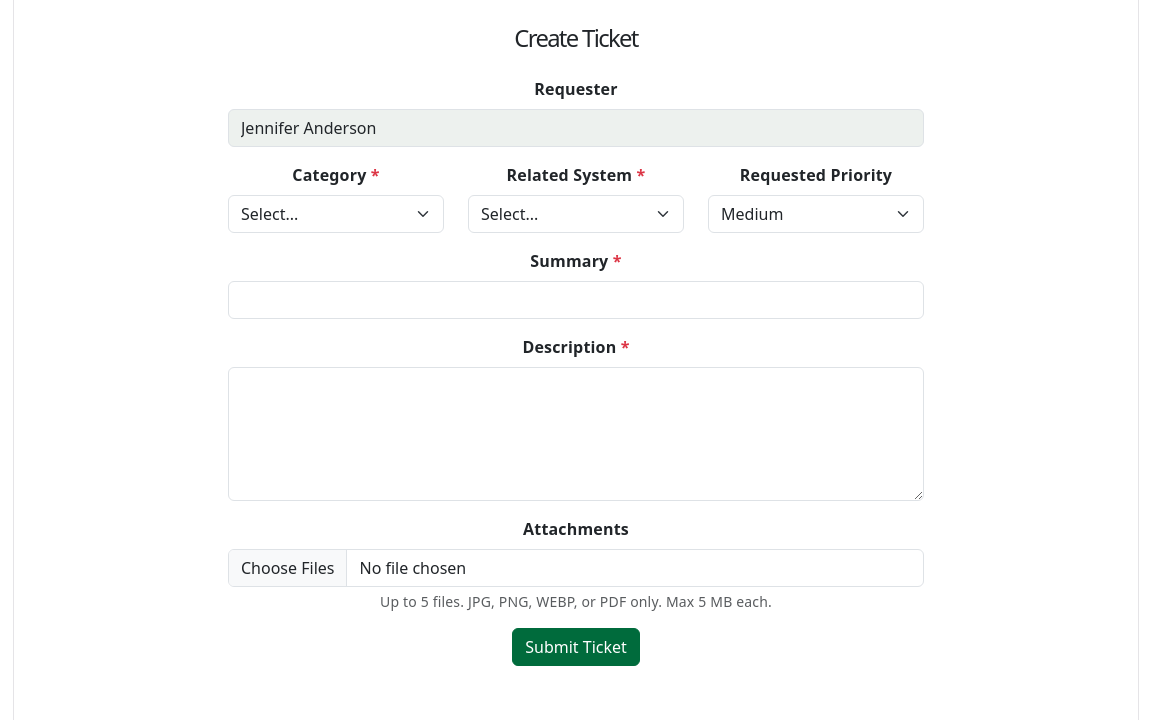
Test: CreateTicket › submits successfully and shows the returned ticket number
expect the heading "Create Ticket" is shown: met, box [514,22,638,54]
Select "Hardware" in the dropdown labelled "Category *" at (336, 214), box [228,195,444,233]
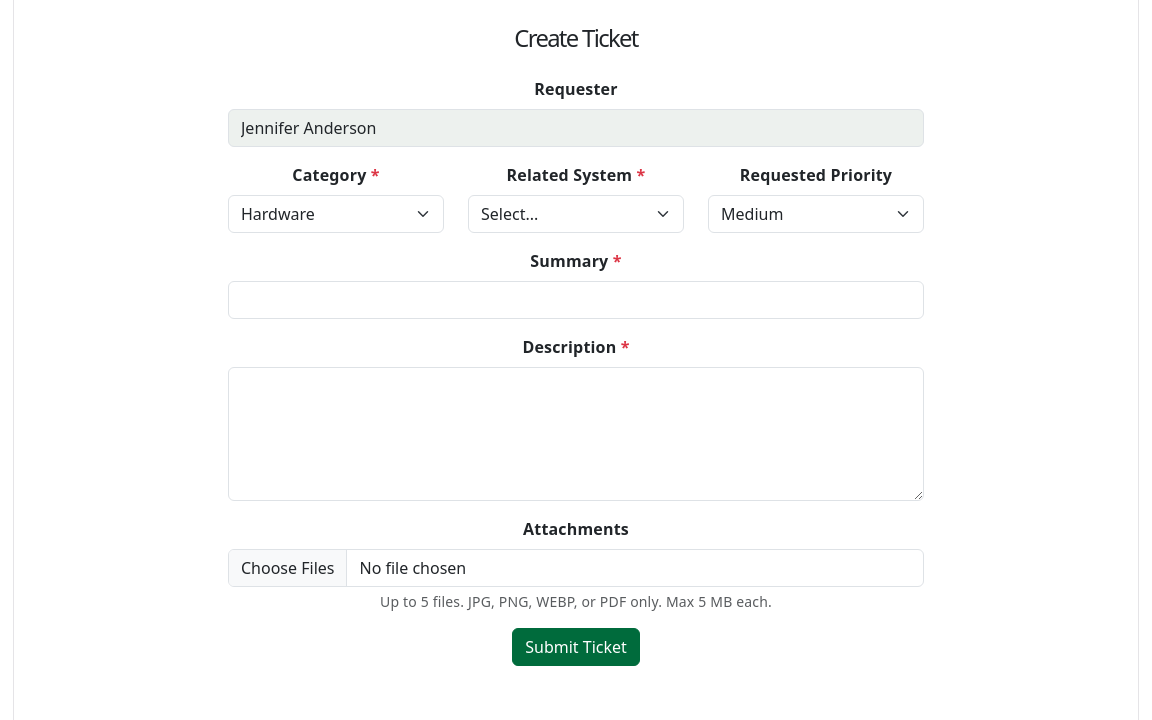
Select "VPN" in the dropdown labelled "Related System *" at (576, 214), box [468,195,684,233]
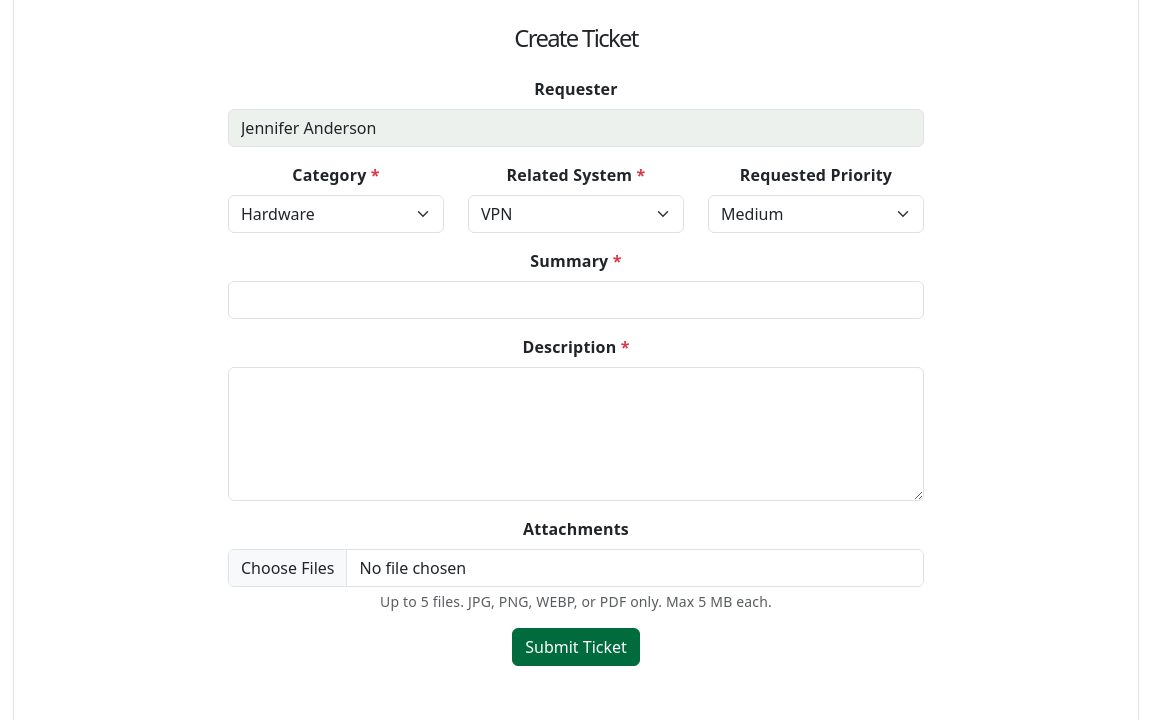
Type "Valid summary text" into the field labelled "Summary *" at (576, 300), box [228,281,924,319]
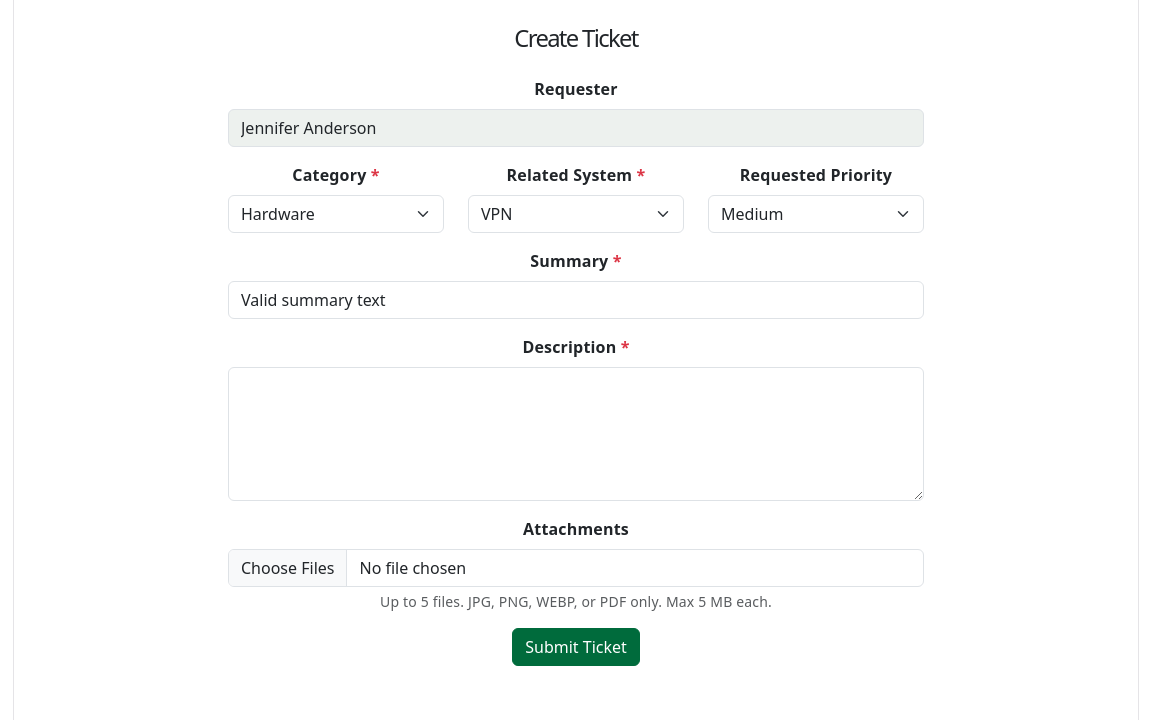
Type "This is a valid ticket description." into the text box labelled "Description *" at (576, 434), box [228,367,924,501]
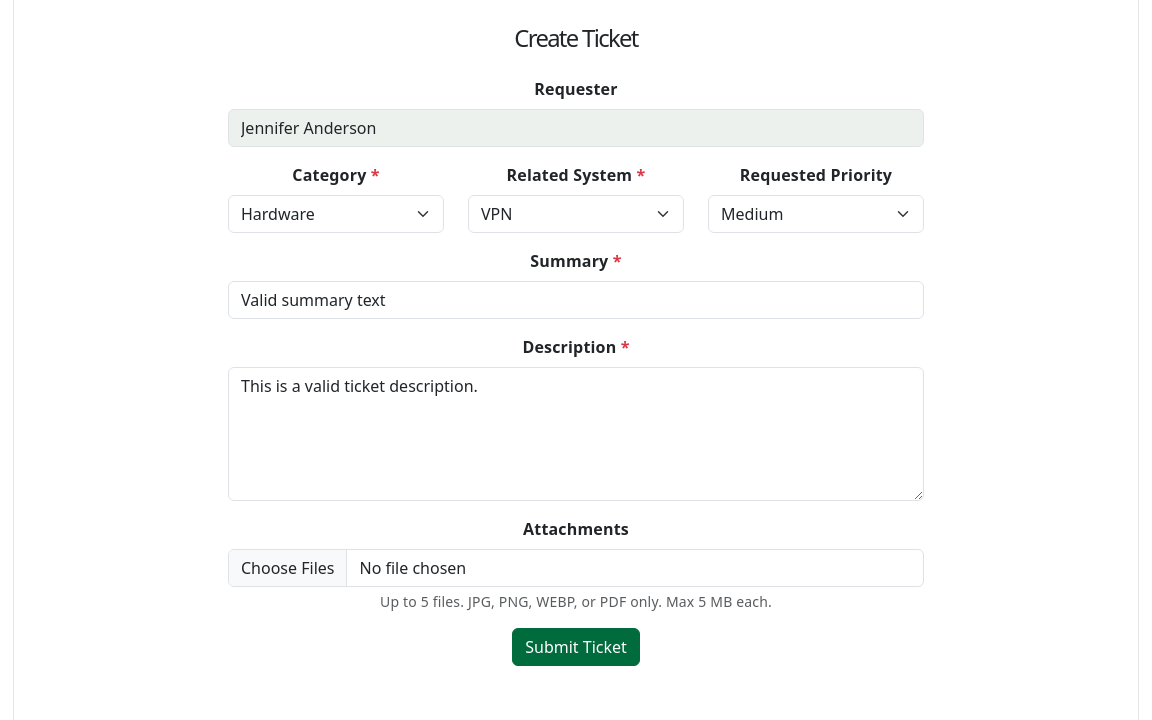
Click the button "Submit Ticket" at (576, 647), box [512,628,640,666]
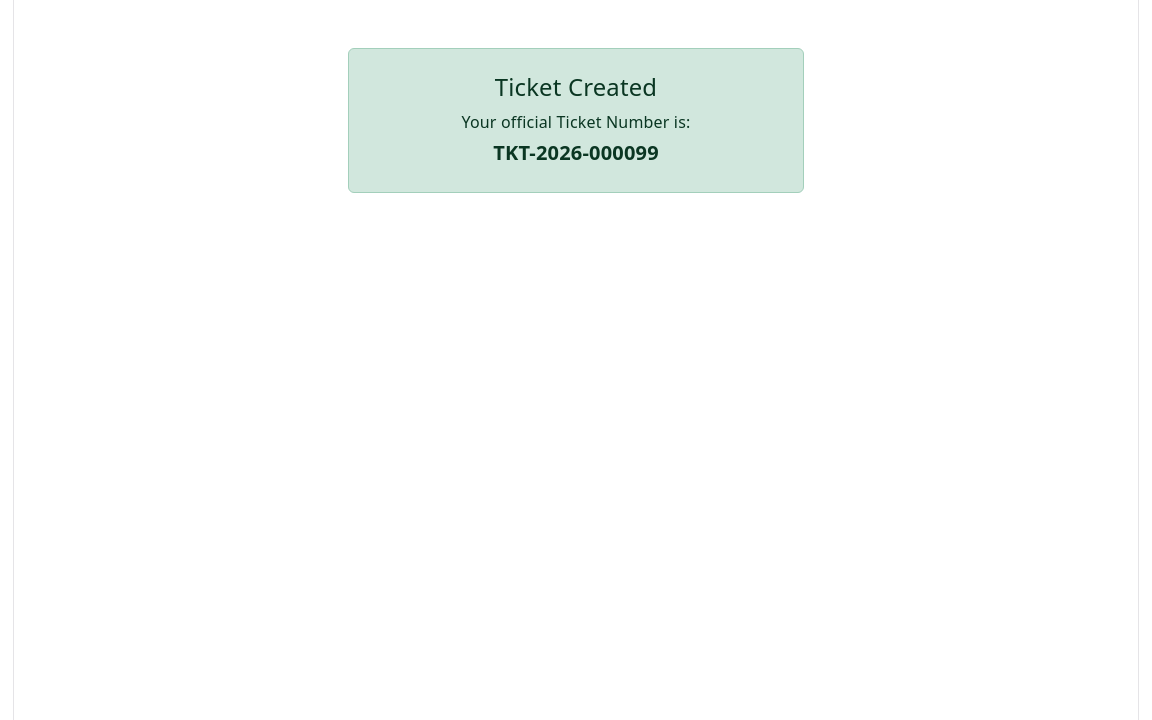
expect the text "TKT-2026-000099" is shown: met, box [493,139,659,166]
